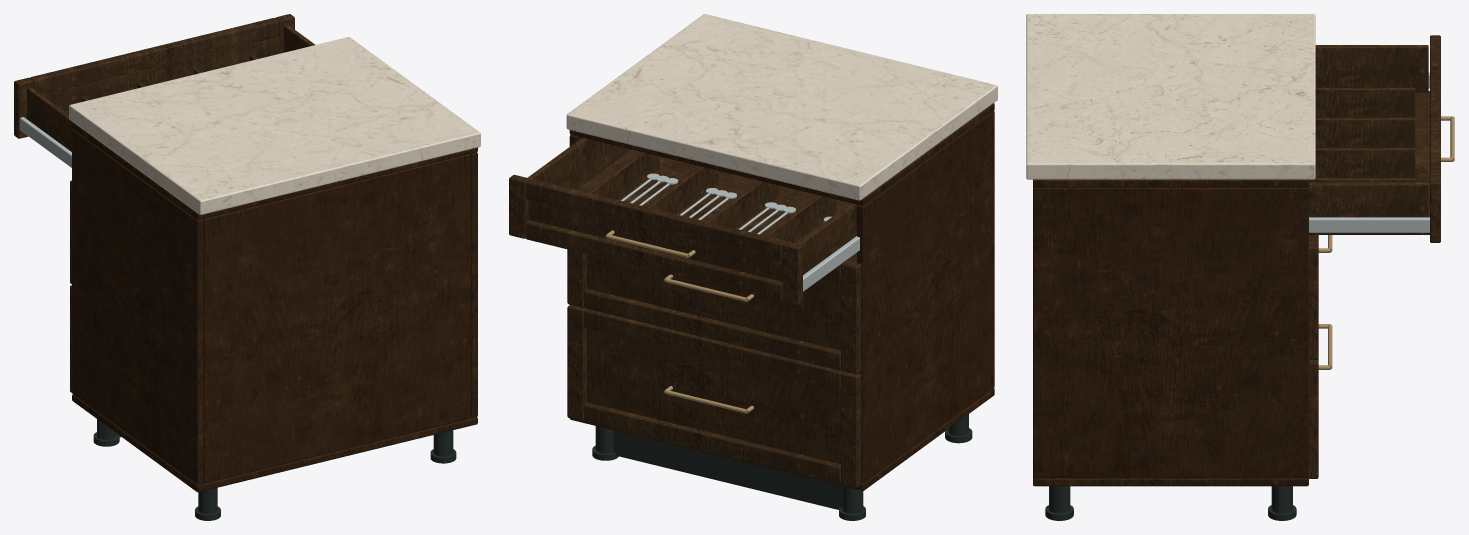
File: cabinet-open-drawer.glb
3 renders of one model, left to right at view 1: azimuth 30°, elevation 25°; view 2: azimuth 150°, elevation 25°; view 3: azimuth 270°, elevation 25°, orthographic. The views are drawn at different scales.
Visible parts, largest first — view 1: walnut_surfaces, stone_surfaces, oak_surfaces, dark_surfaces, steel_surfaces; view 2: oak_surfaces, stone_surfaces, walnut_surfaces, dark_surfaces, steel_surfaces, bronze_surfaces; view 3: walnut_surfaces, stone_surfaces, oak_surfaces, steel_surfaces, dark_surfaces, bronze_surfaces.
Boxes of the visible parts, x1=… form: walnut_surfaces: x1=72, y1=122, x2=477, y2=492; stone_surfaces: x1=69, y1=37, x2=480, y2=214; oak_surfaces: x1=14, y1=14, x2=315, y2=392; dark_surfaces: x1=93, y1=419, x2=456, y2=520; steel_surfaces: x1=19, y1=117, x2=71, y2=167; oak_surfaces: x1=509, y1=137, x2=861, y2=487; stone_surfaces: x1=566, y1=14, x2=997, y2=200; walnut_surfaces: x1=569, y1=103, x2=994, y2=490; dark_surfaces: x1=592, y1=414, x2=972, y2=520; steel_surfaces: x1=621, y1=173, x2=859, y2=291; bronze_surfaces: x1=605, y1=230, x2=753, y2=413; walnut_surfaces: x1=1033, y1=179, x2=1308, y2=486; stone_surfaces: x1=1026, y1=14, x2=1315, y2=179; oak_surfaces: x1=1308, y1=35, x2=1440, y2=478; steel_surfaces: x1=1309, y1=72, x2=1429, y2=232; dark_surfaces: x1=1045, y1=486, x2=1296, y2=520; bronze_surfaces: x1=1318, y1=116, x2=1454, y2=369.
Bounding box in the file's own units: 0.8 × 0.9 × 0.9625.
Materials: 6 (3 with a texture image).
